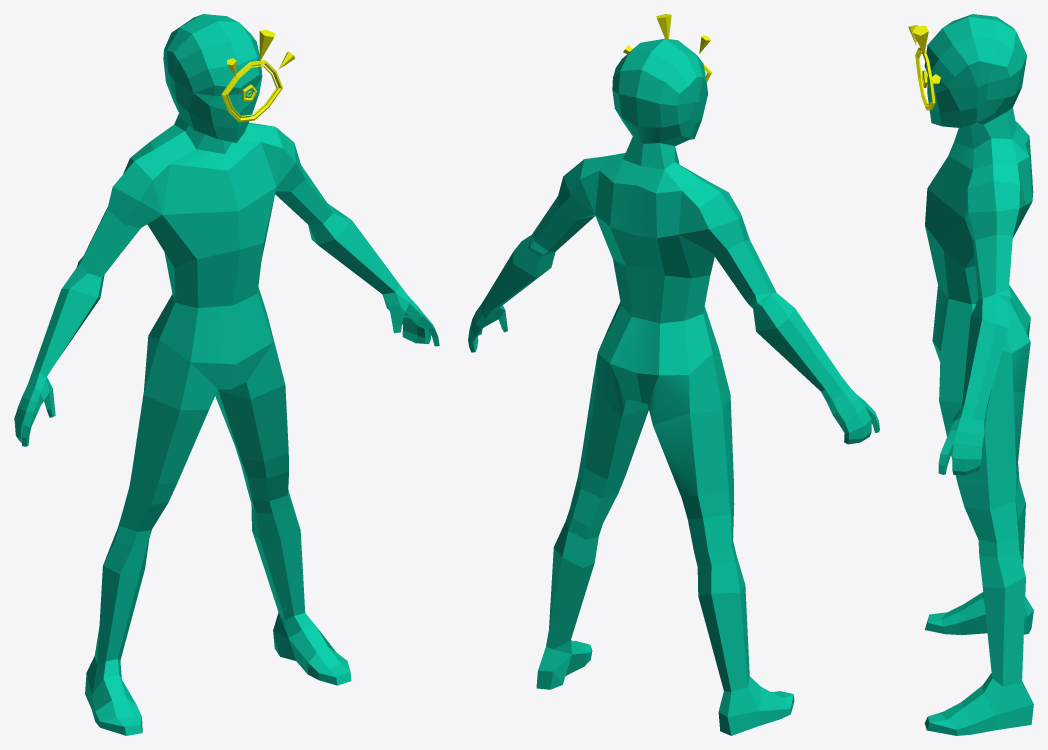
File: NPC.obj
The picture shows the model from 3 angles, left to right: view 1: azimuth 30°, elevation 25°; view 2: azimuth 150°, elevation 25°; view 3: azimuth 270°, elevation 25°; orthographic projection. The views are drawn at different scales.
Parts seen in each view (by area): view 1: Body, Eye; view 2: Body; view 3: Body, Eye.
Boxes of the visible parts, left/top/right/bottom form: Body: left=14, top=14, right=439, bottom=735; Eye: left=221, top=29, right=294, bottom=122; Body: left=468, top=38, right=879, bottom=735; Body: left=924, top=14, right=1033, bottom=735; Eye: left=908, top=25, right=940, bottom=110.
Size of the model in its own units: 2.25 by 3.47 by 0.5983.
